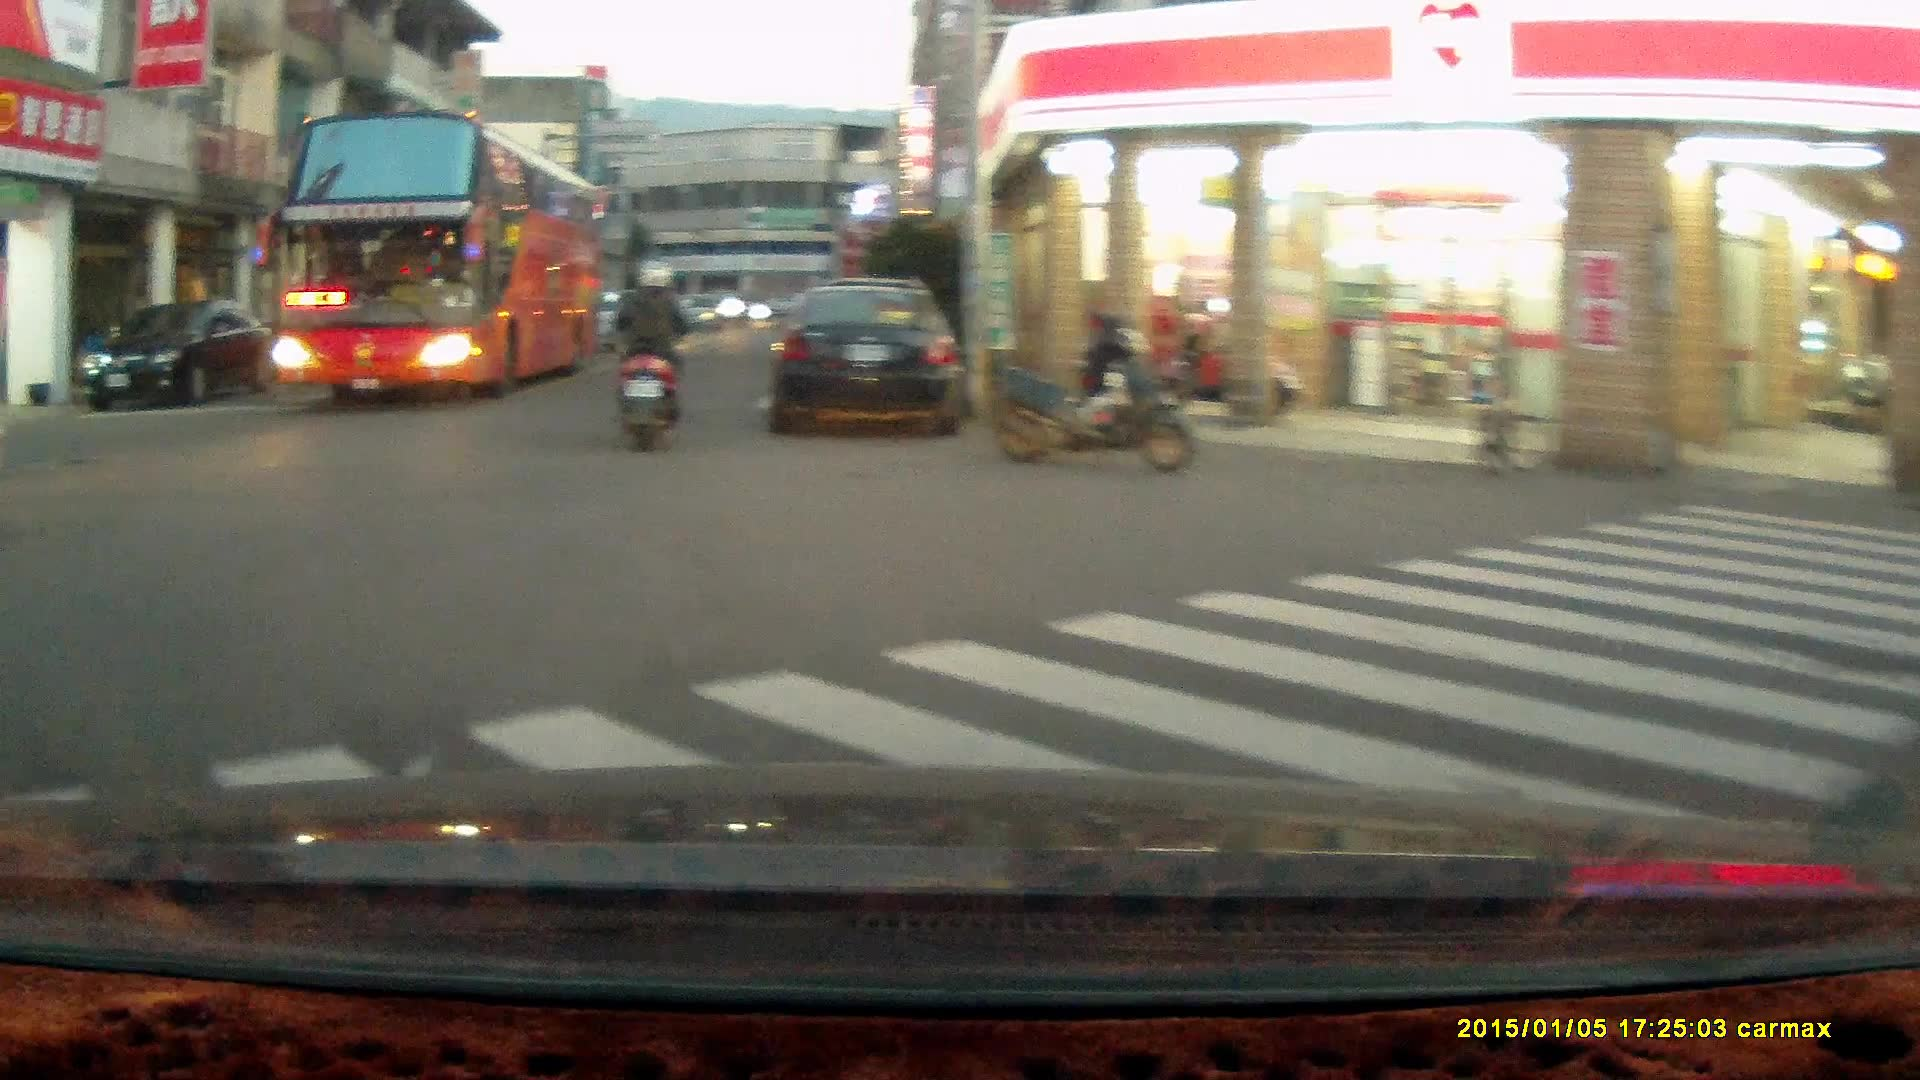rider: (600, 262, 688, 458)
vehicle: (267, 112, 606, 408), (764, 275, 968, 432), (77, 299, 279, 411)
